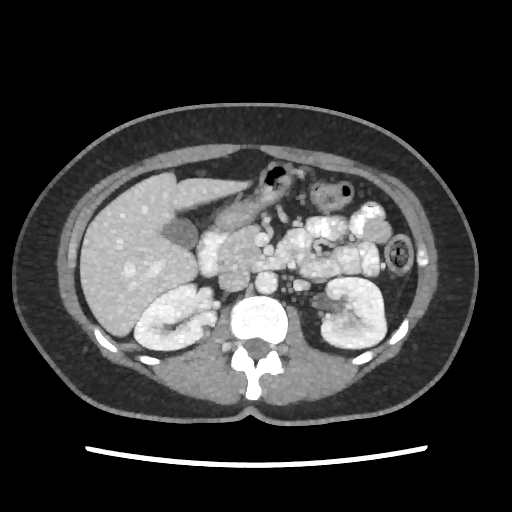Lesion: (197, 321, 214, 339)
